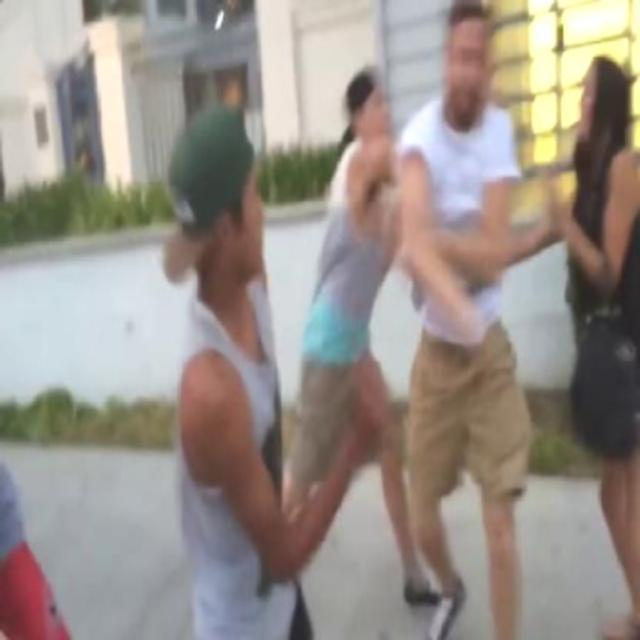fight: (161, 35, 444, 640), (294, 0, 531, 638)
